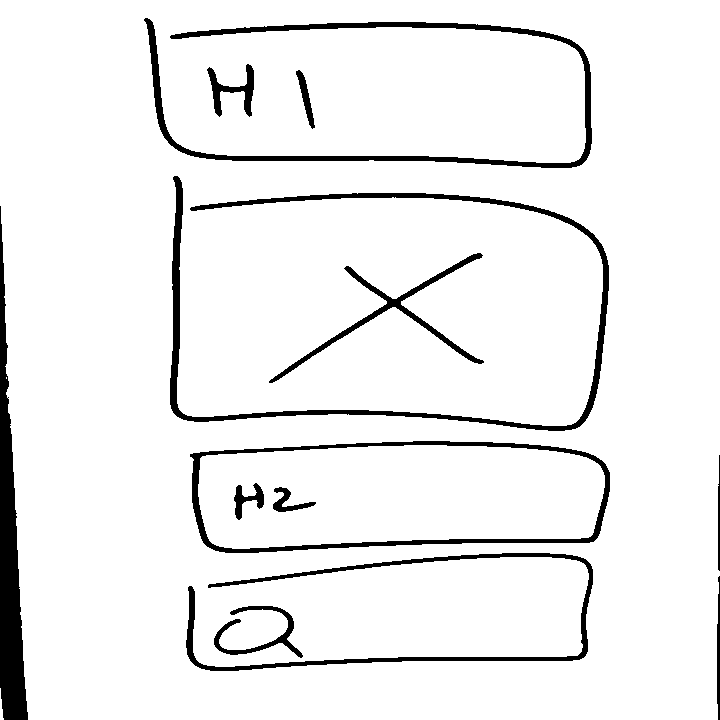heading1: (139, 15, 597, 173)
heading2: (188, 440, 612, 556)
picture: (167, 171, 612, 435)
search bar: (182, 550, 597, 675)
